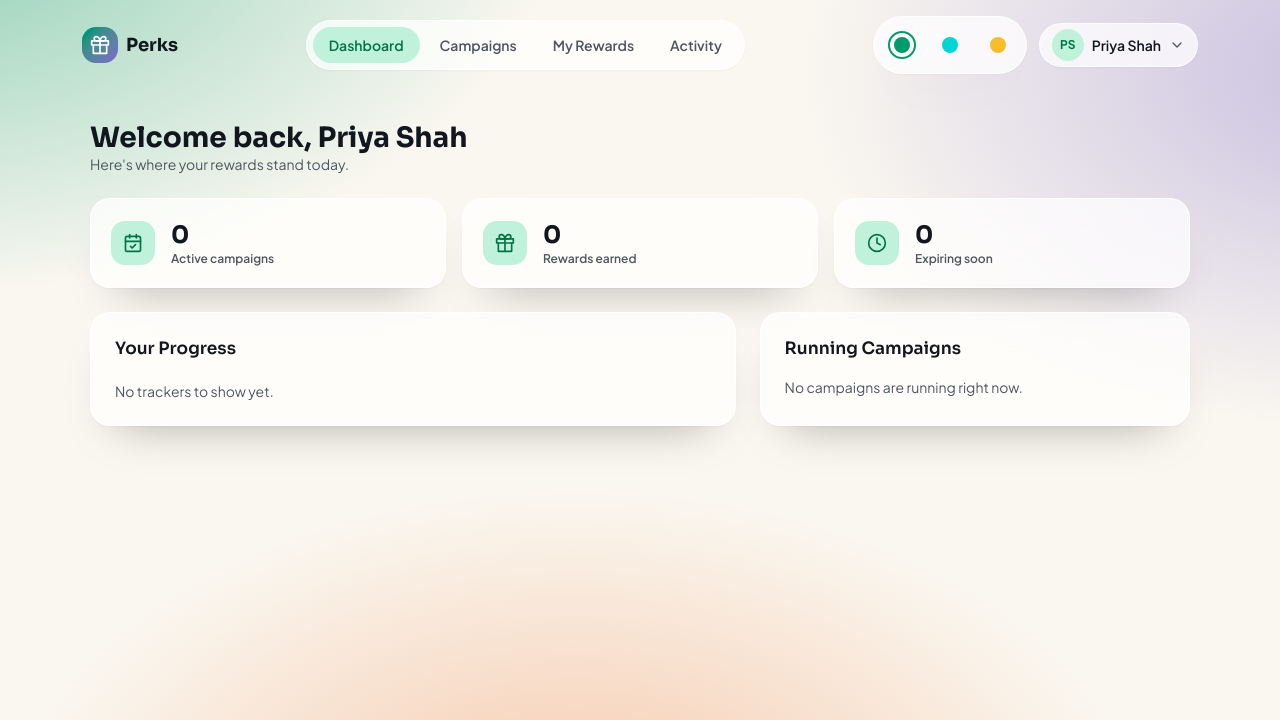
Test: router › clicking a nav pill navigates and updates the active pill (TC-1)
Expected: the heading "Welcome back, Priya Shah" is shown, left=90, top=120, right=468, bottom=155
What coordinates should you click on to do the following:
click the link "Campaigns"
I would click on:
 (478, 45)
Its box is left=440, top=36, right=517, bottom=54.
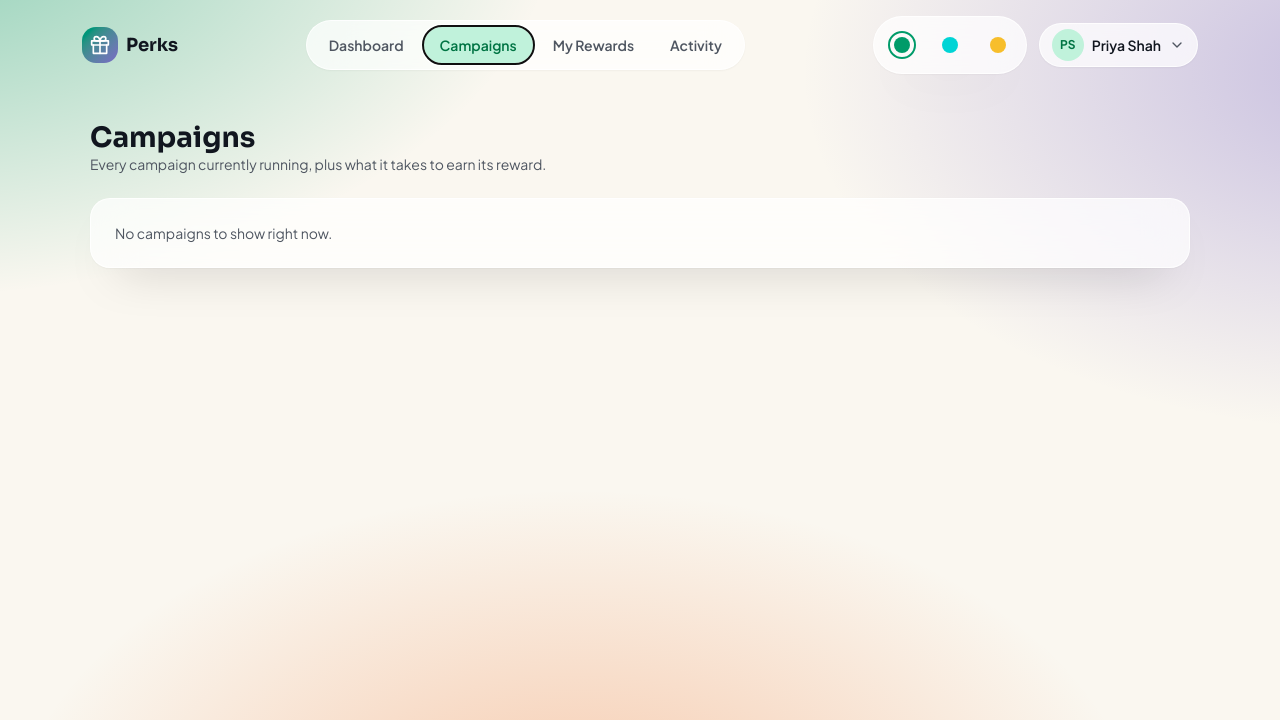
Now the heading "Campaigns" is shown, box left=90, top=120, right=255, bottom=155
